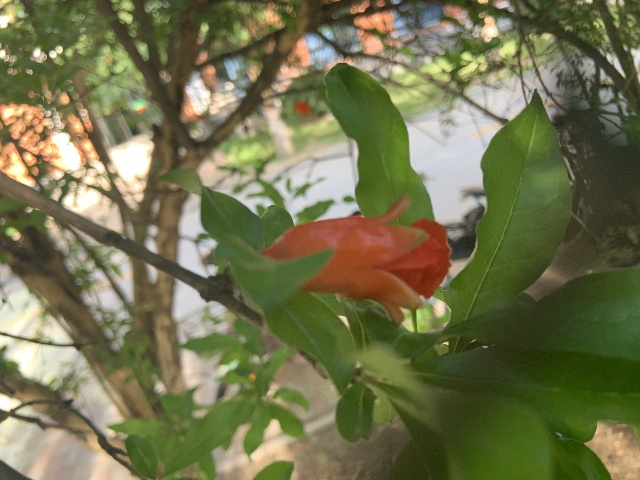flower: (260, 193, 452, 323)
